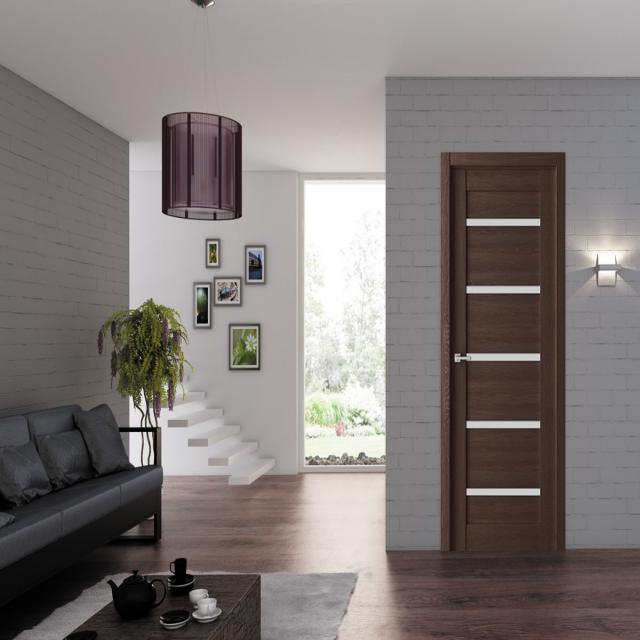close: (445, 161, 565, 564)
